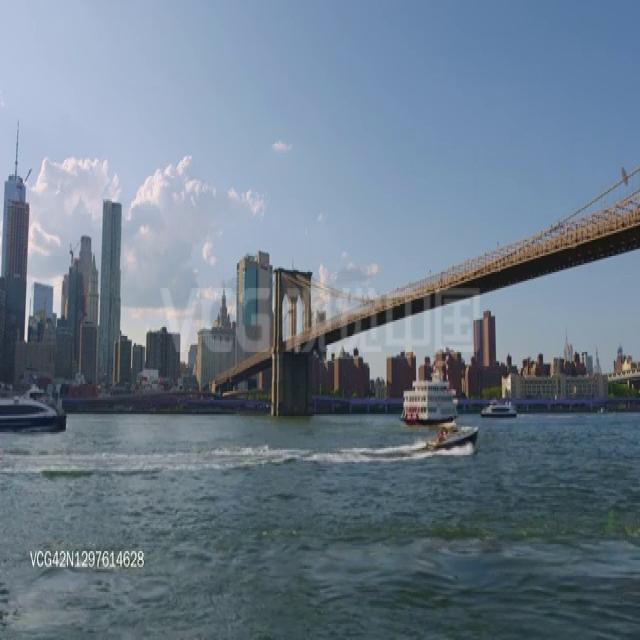houseboat: (426, 421, 477, 450)
passenger ship: (0, 380, 68, 434), (402, 378, 456, 422), (480, 391, 517, 417)
